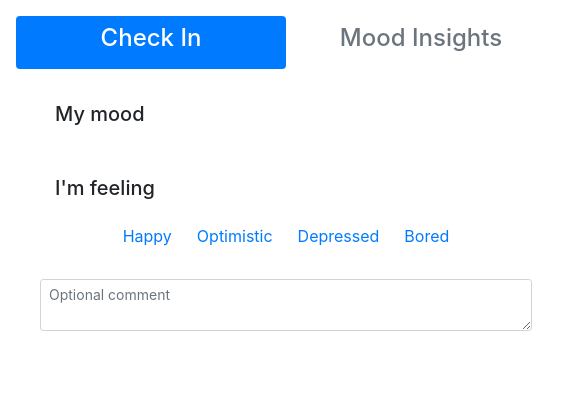
Test: App - as a user › when I check in my mood twice and view my mood insights › I see the check-ins count increase twice
Click the text "Happy" at (147, 235), box [123,224,172,246]
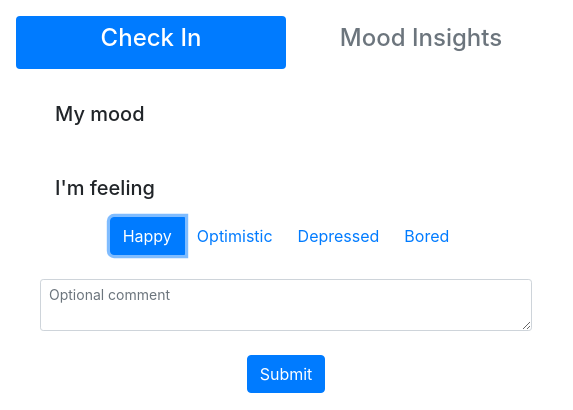
Click the button "Submit" at (286, 374), box [247,355,325,393]
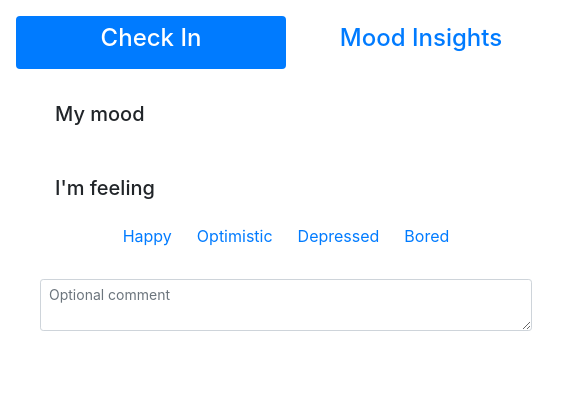
Click the text "Optimistic" at (235, 235), box [197,224,272,246]
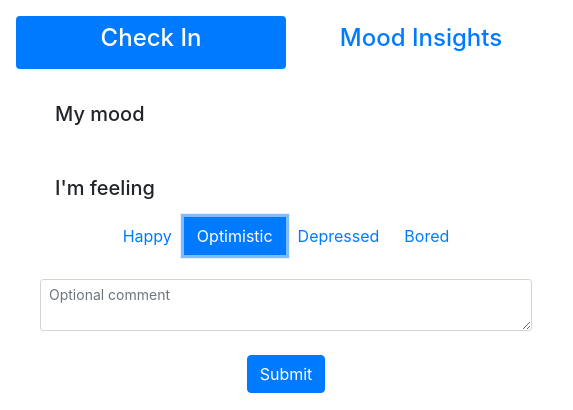
Click the button "Submit" at (286, 374), box [247,355,325,393]
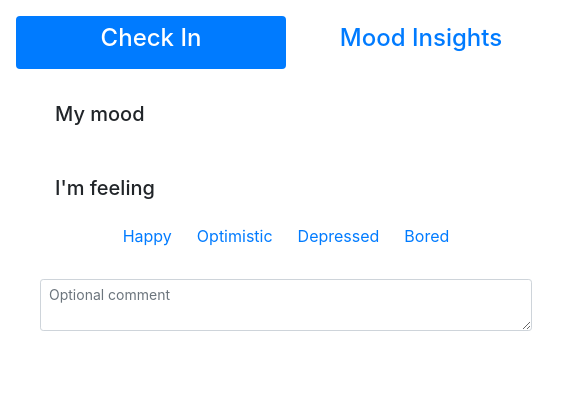
Click the link "Mood Insights" at (421, 38), box [340,23,502,52]
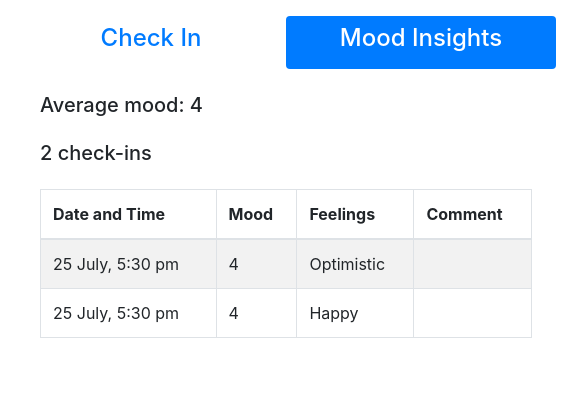
Now the heading "2 check-ins" is shown, box [40,141,152,165]
